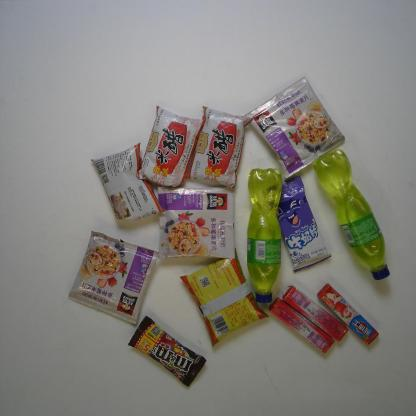Candy: (262, 175, 332, 274), (316, 282, 380, 346), (268, 296, 335, 355), (282, 284, 348, 343)
Chocolate: (127, 315, 206, 388)
Drink: (313, 149, 390, 281), (247, 168, 282, 304)
Instant Drink: (243, 76, 345, 179), (69, 230, 160, 325), (158, 186, 235, 260)
Seasoner: (179, 249, 269, 347), (90, 142, 166, 228), (137, 105, 206, 189), (186, 105, 253, 191)
